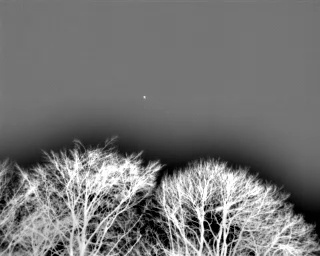BIRD: (141, 93, 148, 102)
